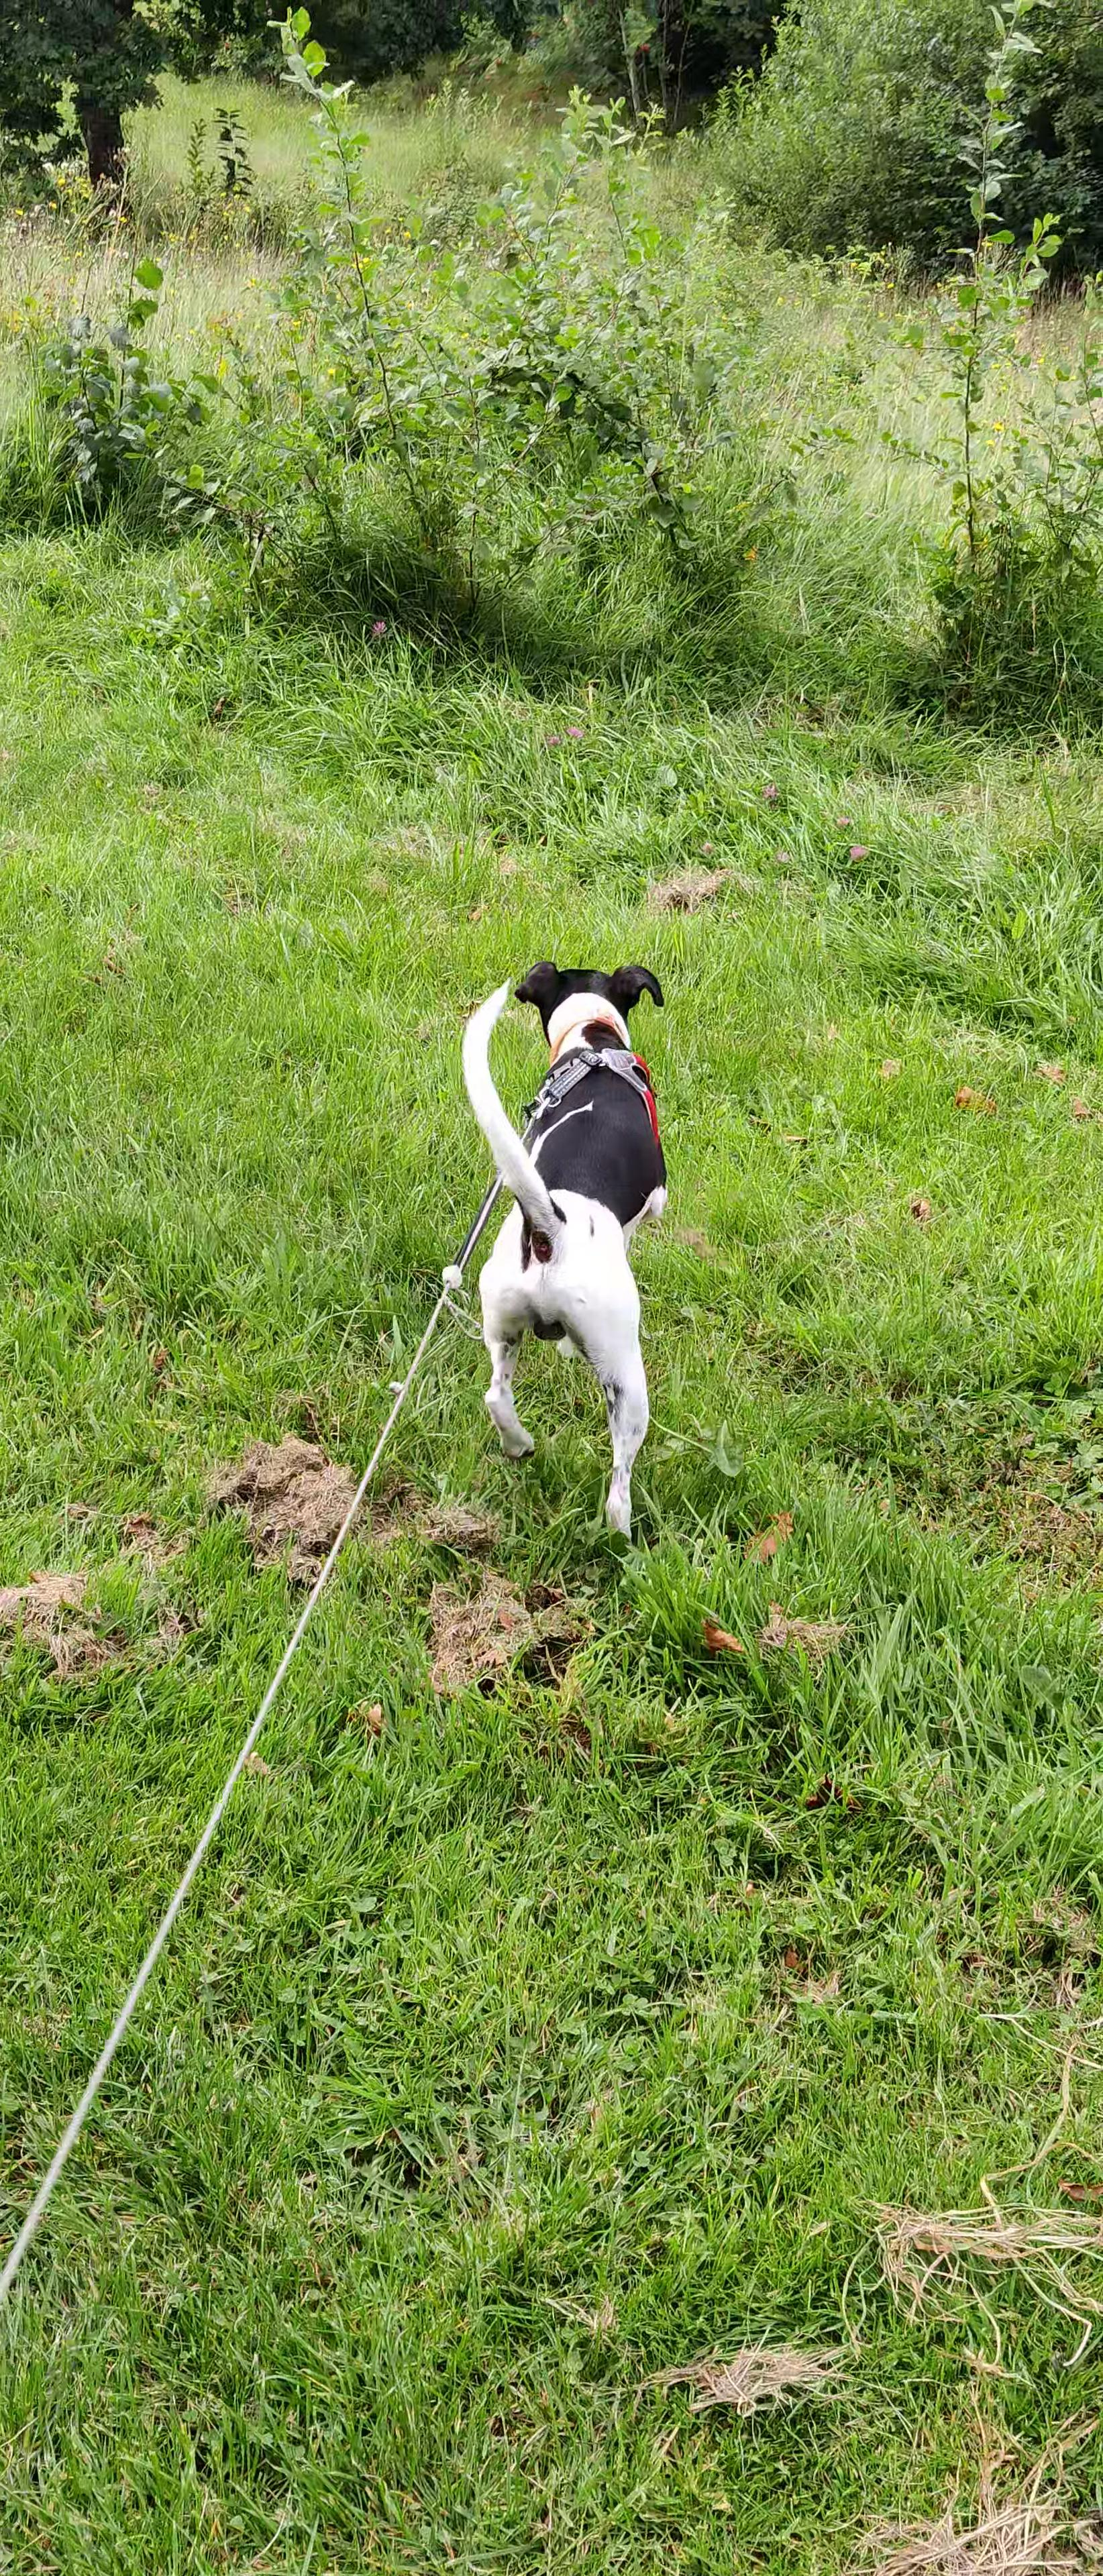Dog: (449, 953, 679, 1544)
